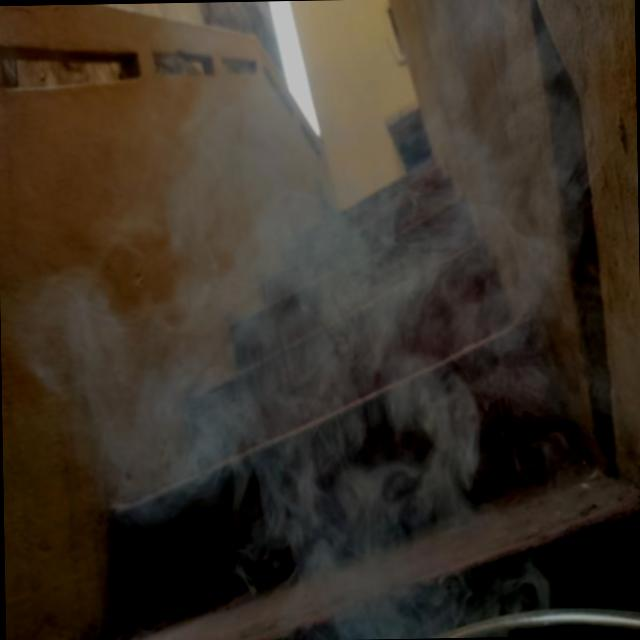smoke: (126, 122, 416, 488)
